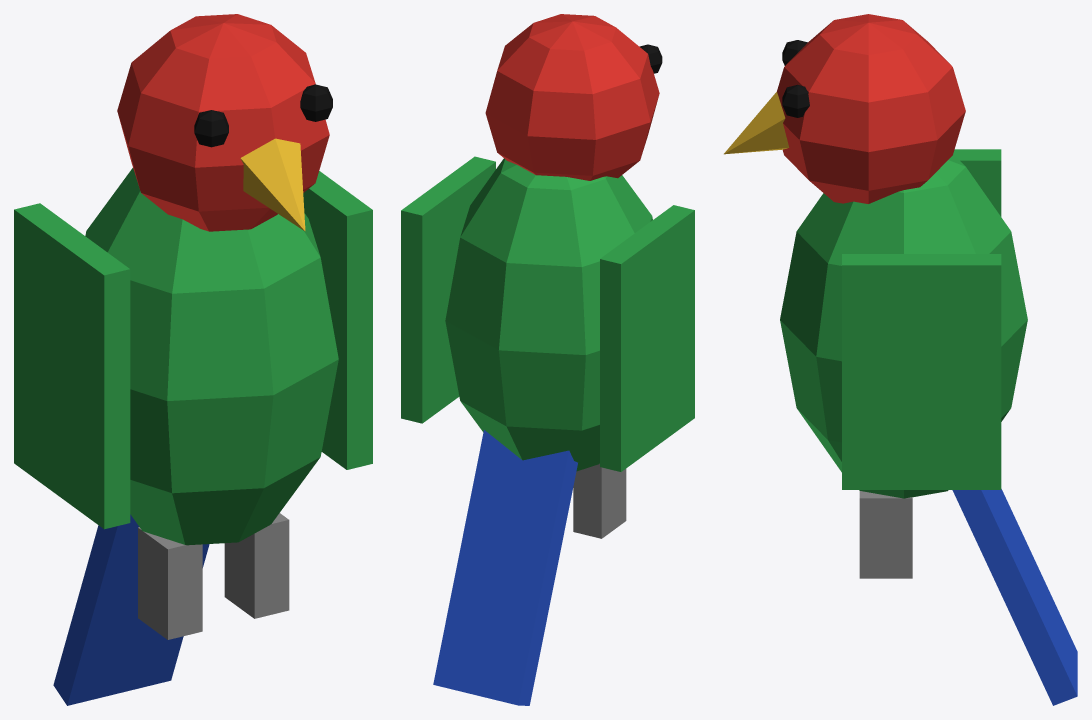
The model's file is parrot.glb.
3 views of the same model, side by side, from view 1: azimuth 30°, elevation 25°; view 2: azimuth 150°, elevation 25°; view 3: azimuth 270°, elevation 25° (orthographic). The views are drawn at different scales.
Parts seen in each view (by area): view 1: body_parrot_green, wing_r_parrot_green, body_parrot_red, wing_l_parrot_green, tail_parrot_blue, feet_parrot_feet (×2), beak_parrot_beak, eyes_parrot_eye (×2); view 2: body_parrot_green, tail_parrot_blue, body_parrot_red, wing_r_parrot_green, wing_l_parrot_green, feet_parrot_feet; view 3: wing_l_parrot_green, body_parrot_green, body_parrot_red, tail_parrot_blue, feet_parrot_feet, beak_parrot_beak, wing_r_parrot_green, eyes_parrot_eye.
Boxes of the visible parts, x1,y1,x2,y2 form: body_parrot_green: (85, 168, 338, 545); wing_r_parrot_green: (14, 203, 130, 529); body_parrot_red: (117, 14, 329, 231); wing_l_parrot_green: (303, 171, 372, 469); tail_parrot_blue: (53, 514, 209, 705); feet_parrot_feet (×2): (138, 513, 289, 639); beak_parrot_beak: (240, 138, 305, 231); eyes_parrot_eye (×2): (194, 84, 332, 147); body_parrot_green: (445, 158, 652, 471); tail_parrot_blue: (433, 430, 577, 705); body_parrot_red: (485, 14, 659, 180); wing_r_parrot_green: (600, 205, 694, 471); wing_l_parrot_green: (401, 156, 495, 423); feet_parrot_feet: (573, 464, 626, 538); wing_l_parrot_green: (842, 254, 1001, 489); body_parrot_green: (780, 154, 1027, 498); body_parrot_red: (777, 14, 965, 203); tail_parrot_blue: (952, 489, 1077, 705); feet_parrot_feet: (859, 491, 912, 578); beak_parrot_beak: (724, 91, 789, 154); wing_r_parrot_green: (953, 149, 1001, 216); eyes_parrot_eye: (782, 84, 809, 117).
Size of the model in its own units: 0.155 by 0.4116 by 0.2.
